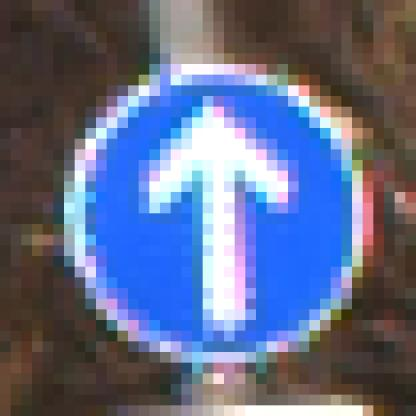AheadOnly: (54, 65, 353, 353)
